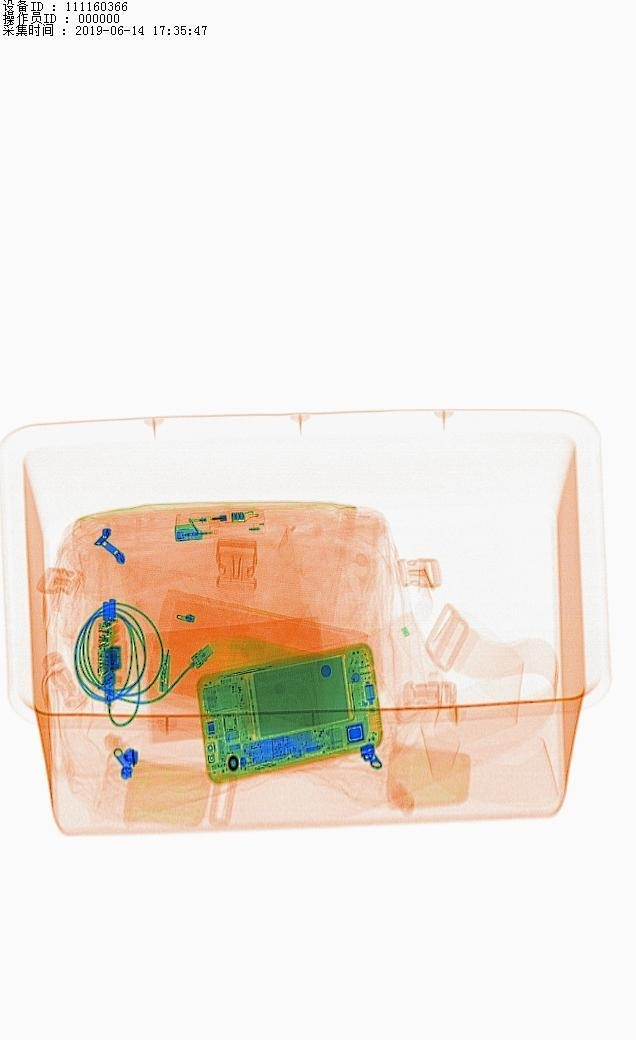NonmetallicFire: (165, 504, 280, 555)
